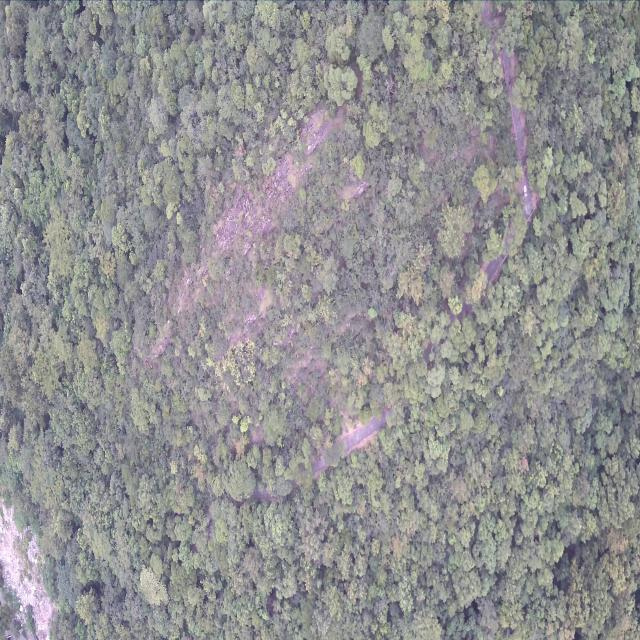UAV: (276, 170, 282, 178)
